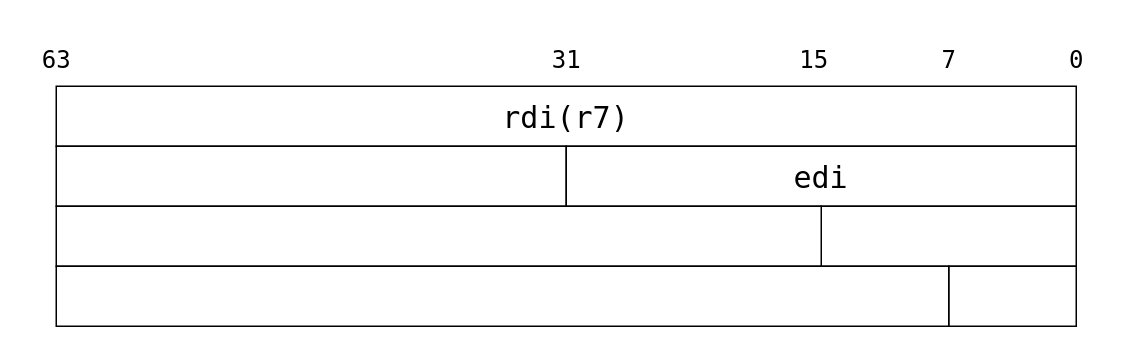
The diagram is 1124 pixels wide and 353 high, and some of its shapes have lost their labels. Each missing label, with the centre of its shape:
di: pixel 948 235
dil: pixel 1011 295
